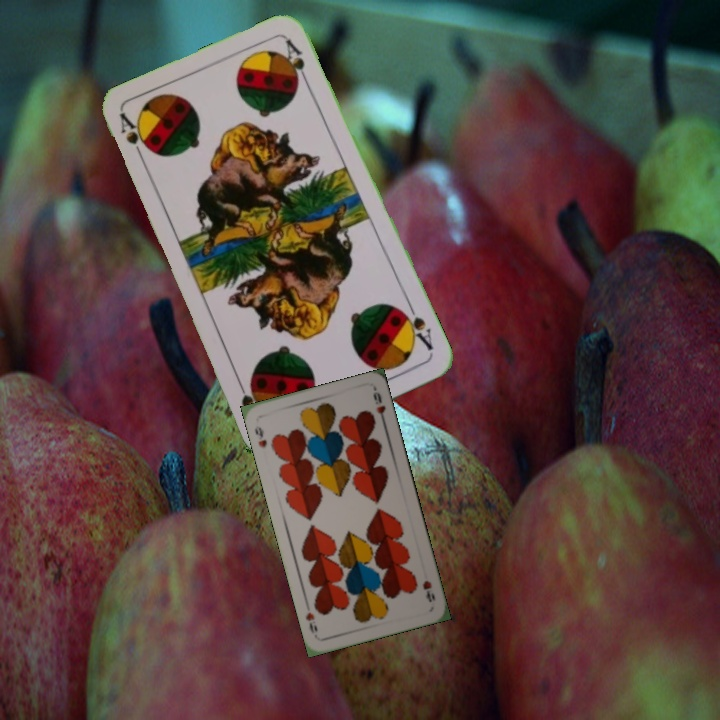H9: (419, 576, 438, 605), (250, 422, 269, 450)
SA: (395, 300, 436, 353), (115, 109, 152, 166)
